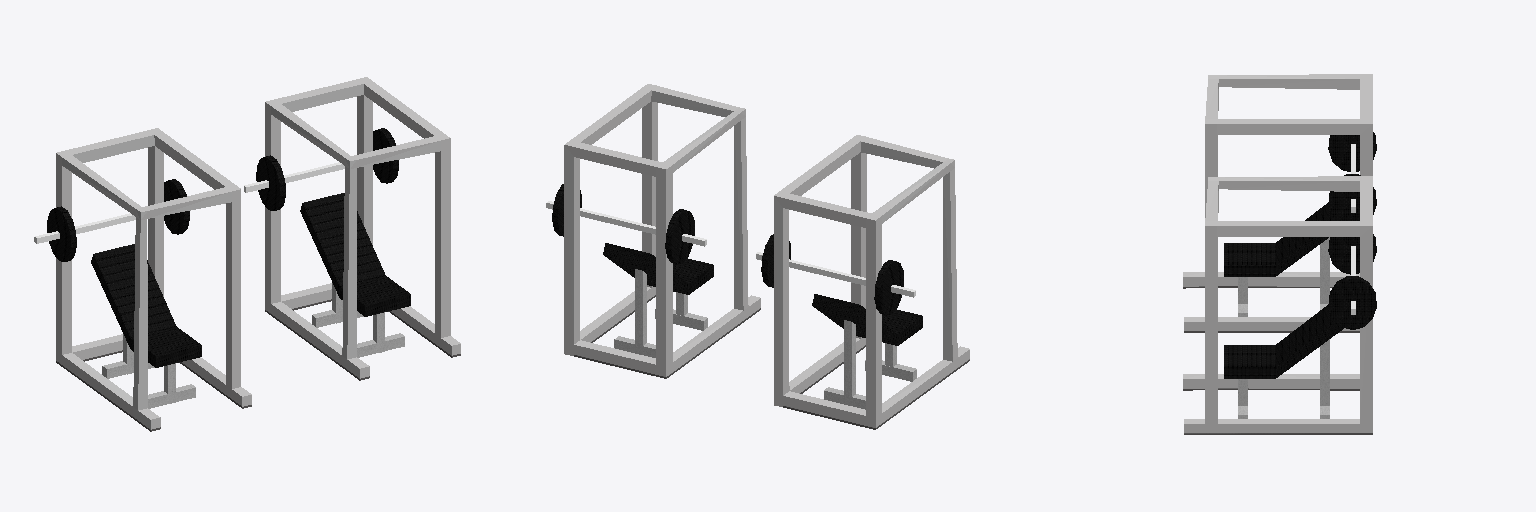
The picture shows the model from 3 angles: view 1: azimuth 30°, elevation 25°; view 2: azimuth 150°, elevation 25°; view 3: azimuth 270°, elevation 25°; orthographic projection.
Parts seen in each view (by area): view 1: pasted__group43 group group48 group51 pasted__pCube6, group48 group51 group43 group47 pCube6, pasted__group43 group group48 group51 pasted__pCube4, group48 group51 group43 group47 pCube4, pasted__group43 group group48 group51 pasted__pasted__pCylinder3, group48 group51 group43 group47 pasted__pCylinder3 group42, pasted__pCylinder3 pasted__group43 group group48 group51, group48 group51 pCylinder3 group43 group47, group48 group51 group43 group47 pCube7, pasted__group43 group group48 group51 pasted__pCube7, pasted__group43 group group48 group51 pasted__pasted__pasted__pa, group48 group51 group43 group47 pasted__pasted__pasted__pCube5 p; view 2: pasted__group43 group group48 group51 pasted__pCube6, group48 group51 group43 group47 pCube6, group48 group51 group43 group47 pCube4, pasted__group43 group group48 group51 pasted__pCube4, pasted__group43 group group48 group51 pasted__pasted__pCylinder3, group48 group51 group43 group47 pasted__pCylinder3 group42, group48 group51 group43 group47 pasted__pCube5 group, pasted__group43 group group48 group51 pasted__pasted__pCube5 pas, group48 group51 group43 group47 pCube7, pasted__group43 group group48 group51 pasted__pCube7, group48 group51 pCylinder3 group43 group47; view 3: pasted__group43 group group48 group51 pasted__pCube6, group48 group51 group43 group47 pCube6, pasted__group43 group group48 group51 pasted__pCube4, group48 group51 group43 group47 pCube4, pasted__pCylinder3 pasted__group43 group group48 group51, pasted__group43 group group48 group51 pasted__pasted__pCylinder3, group48 group51 group43 group47 pasted__pCylinder3 group42, group48 group51 pCylinder3 group43 group47, pasted__group43 group group48 group51 pasted__pasted__pCube5 pas, group48 group51 group43 group47 pasted__pCube5 group.
Boxes of the visible parts, <box> form: pasted__group43 group group48 group51 pasted__pCube6: <box>265,77,460,380</box>; group48 group51 group43 group47 pCube6: <box>56,128,251,431</box>; pasted__group43 group group48 group51 pasted__pCube4: <box>300,193,410,316</box>; group48 group51 group43 group47 pCube4: <box>91,244,201,367</box>; pasted__group43 group group48 group51 pasted__pasted__pCylinder3: <box>256,155,285,210</box>; group48 group51 group43 group47 pasted__pCylinder3 group42: <box>47,206,76,261</box>; pasted__pCylinder3 pasted__group43 group group48 group51: <box>373,128,398,183</box>; group48 group51 pCylinder3 group43 group47: <box>164,179,189,234</box>; group48 group51 group43 group47 pCube7: <box>34,213,135,243</box>; pasted__group43 group group48 group51 pasted__pCube7: <box>244,162,344,192</box>; pasted__group43 group group48 group51 pasted__pasted__pasted__pa: <box>357,333,404,357</box>; group48 group51 group43 group47 pasted__pasted__pasted__pCube5 p: <box>148,384,195,408</box>; pasted__group43 group group48 group51 pasted__pCube6: <box>564,84,760,378</box>; group48 group51 group43 group47 pCube6: <box>774,135,969,429</box>; group48 group51 group43 group47 pCube4: <box>812,294,922,345</box>; pasted__group43 group group48 group51 pasted__pCube4: <box>603,243,713,294</box>; pasted__group43 group group48 group51 pasted__pasted__pCylinder3: <box>665,209,694,264</box>; group48 group51 group43 group47 pasted__pCylinder3 group42: <box>874,260,903,315</box>; group48 group51 group43 group47 pasted__pCube5 group: <box>844,320,855,405</box>; pasted__group43 group group48 group51 pasted__pasted__pCube5 pas: <box>635,269,646,354</box>; group48 group51 group43 group47 pCube7: <box>756,252,915,297</box>; pasted__group43 group group48 group51 pasted__pCube7: <box>546,201,706,246</box>; group48 group51 pCylinder3 group43 group47: <box>761,234,790,287</box>; pasted__group43 group group48 group51 pasted__pCube6: <box>1183,176,1372,434</box>; group48 group51 group43 group47 pCube6: <box>1183,74,1372,332</box>; pasted__group43 group group48 group51 pasted__pCube4: <box>1224,305,1343,378</box>; group48 group51 group43 group47 pCube4: <box>1224,203,1335,276</box>; pasted__pCylinder3 pasted__group43 group group48 group51: <box>1328,276,1376,329</box>; pasted__group43 group group48 group51 pasted__pasted__pCylinder3: <box>1328,234,1376,274</box>; group48 group51 group43 group47 pasted__pCylinder3 group42: <box>1328,132,1376,171</box>; group48 group51 pCylinder3 group43 group47: <box>1328,174,1376,220</box>; pasted__group43 group group48 group51 pasted__pasted__pCube5 pas: <box>1320,339,1329,405</box>; group48 group51 group43 group47 pasted__pCube5 group: <box>1320,237,1329,303</box>.
Size of the model in its own units: 4.05 by 2.25 by 1.85.
Materials: 8 (3 with a texture image).